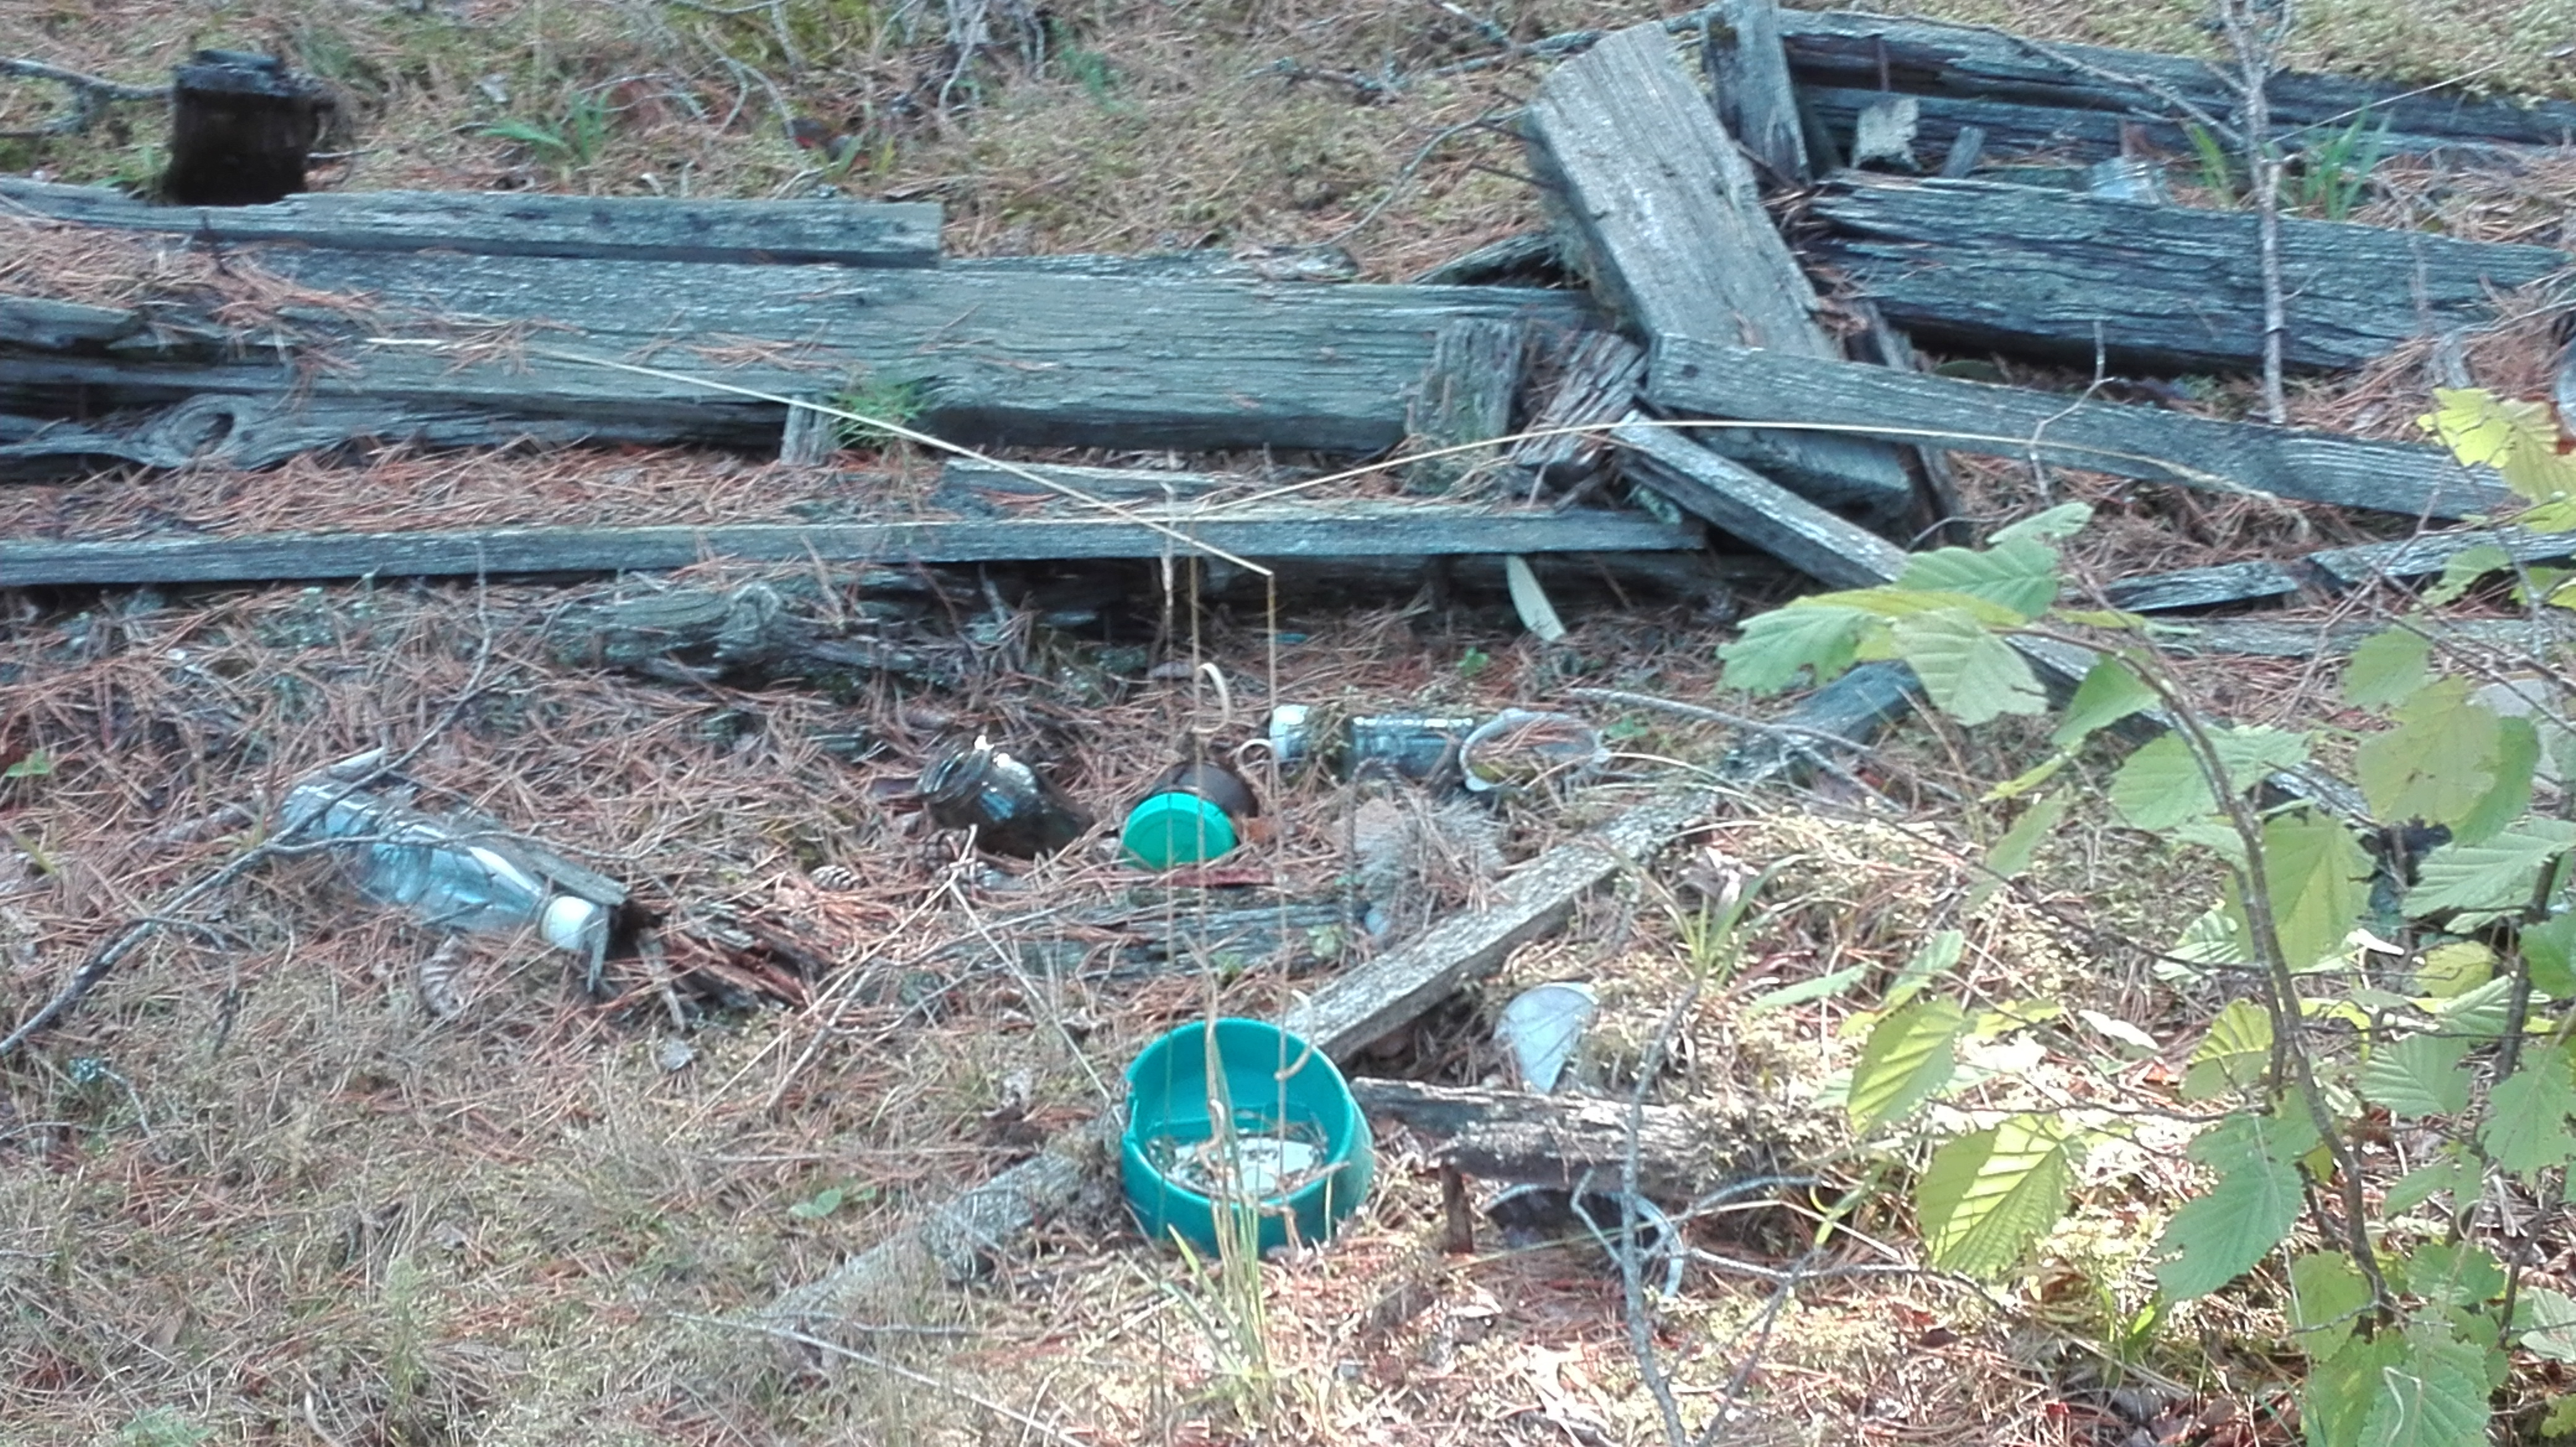trash: (892, 644, 1599, 890), (1069, 969, 1451, 1281), (255, 734, 695, 989)
